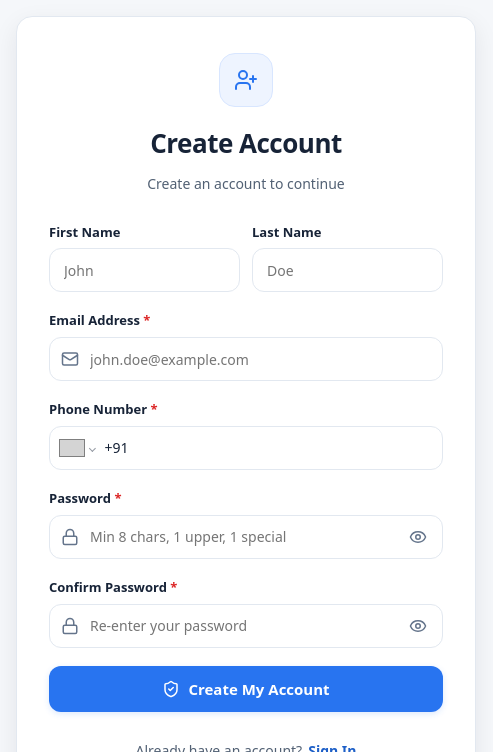
Test: authentication screens › shows duplicate registration errors returned by the API
Type "Jamie" into the field labelled "First Name" at (144, 270), box [49, 248, 240, 292]
Type "Taylor" into the field labelled "Last Name" at (348, 270), box [252, 248, 443, 292]
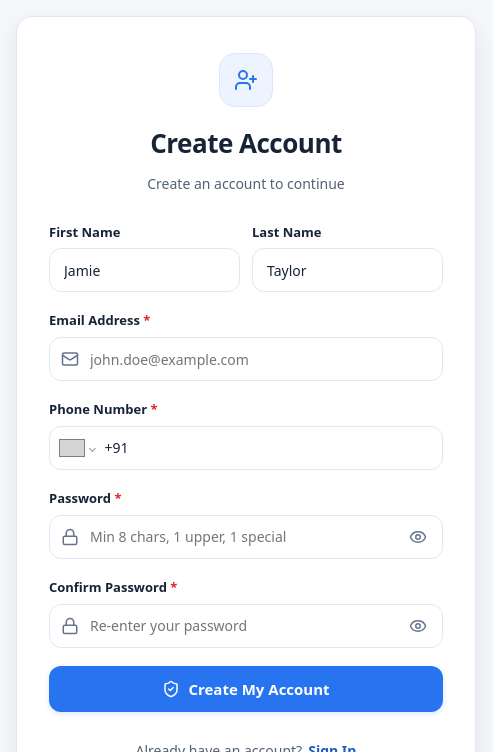
Type "jamie@example.test" into the field labelled "Email Address *" at (246, 359), box [49, 337, 443, 381]
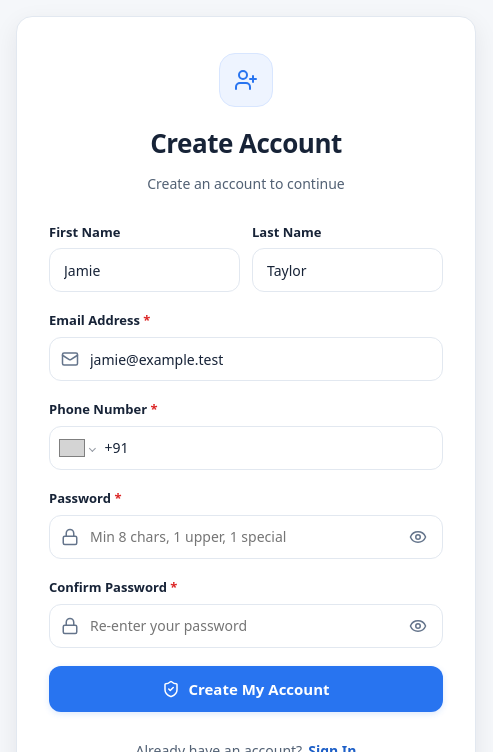
Type "9876543210" into the field labelled "Phone Number" at (268, 448), box [104, 438, 432, 458]
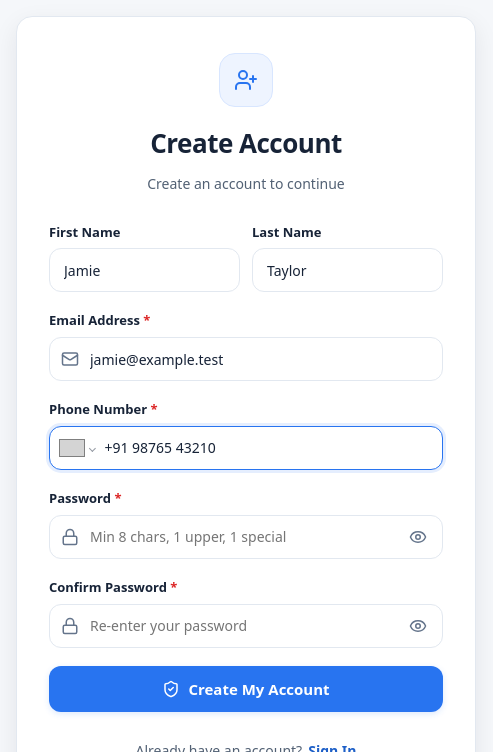
Type "Example@123" into the password field labelled "Password *" at (246, 537), box [49, 515, 443, 559]
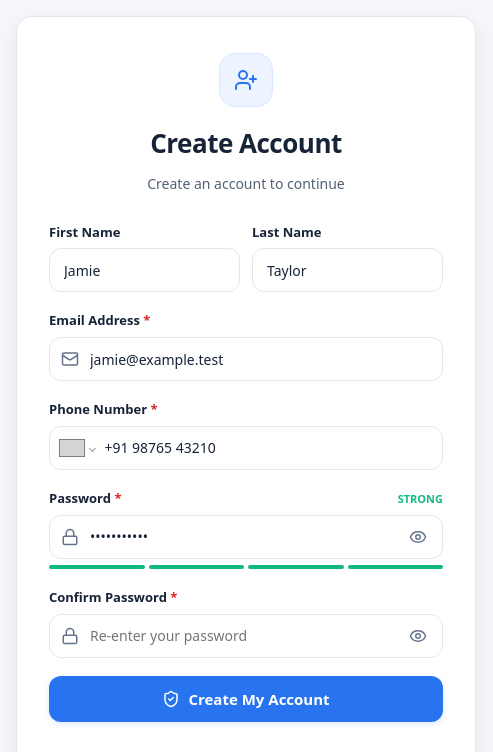
Type "Example@123" into the password field labelled "Confirm Password *" at (246, 636), box [49, 614, 443, 658]
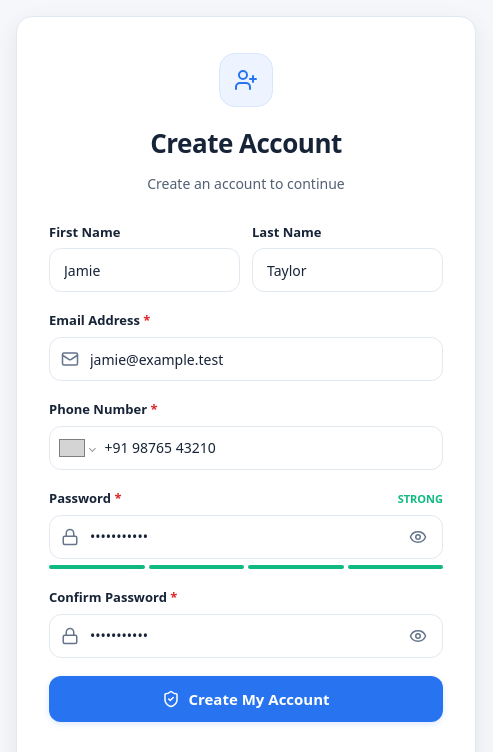
Click the button "Create My Account" at (246, 699), box [49, 676, 443, 722]
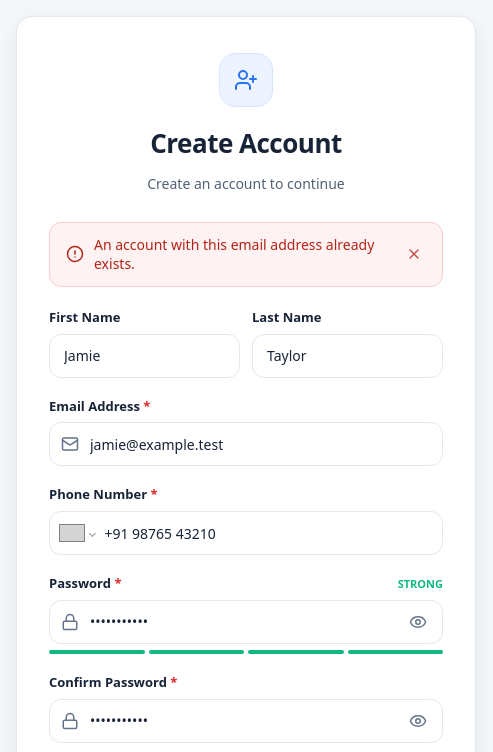
expect the text "An account with this email address already exists." is shown: met, box [94, 235, 402, 274]
